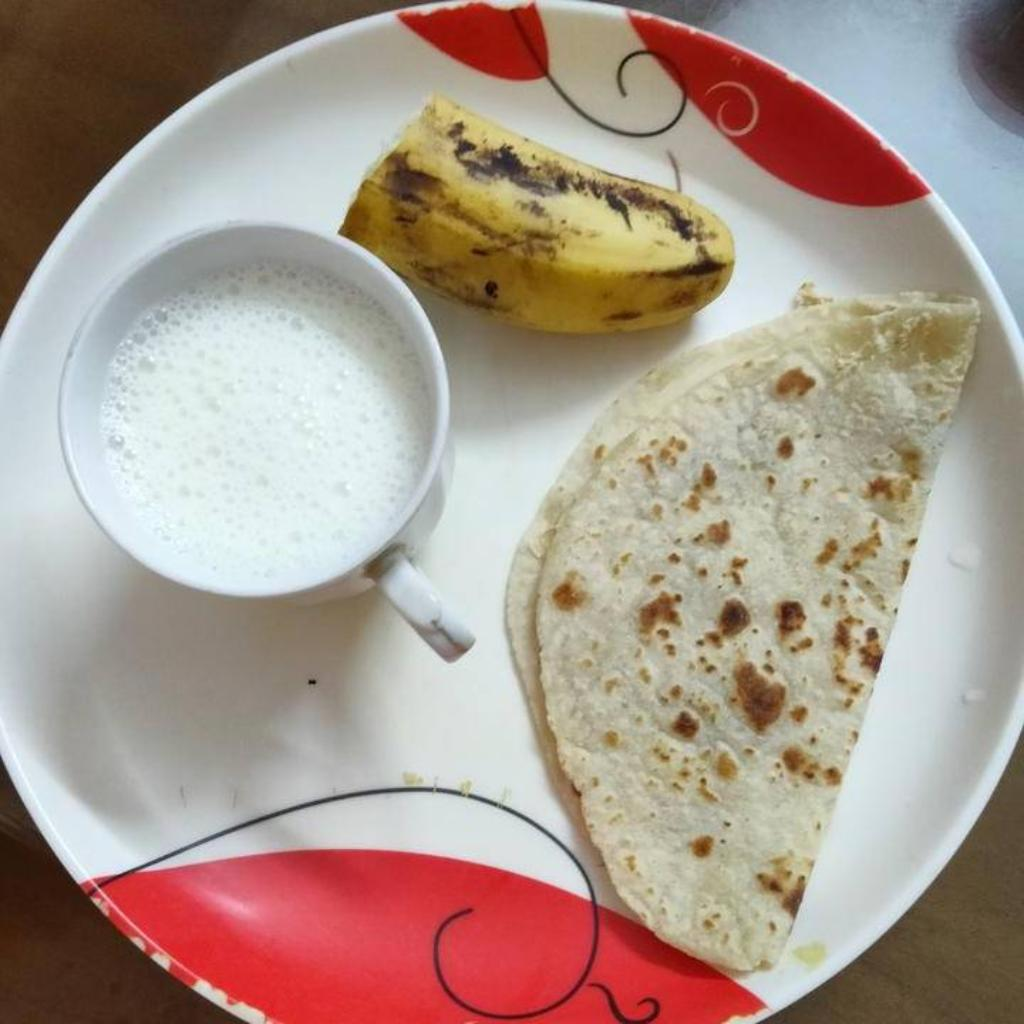banana: (335, 98, 743, 333)
milk: (96, 267, 428, 588)
ruti: (506, 287, 979, 974)
